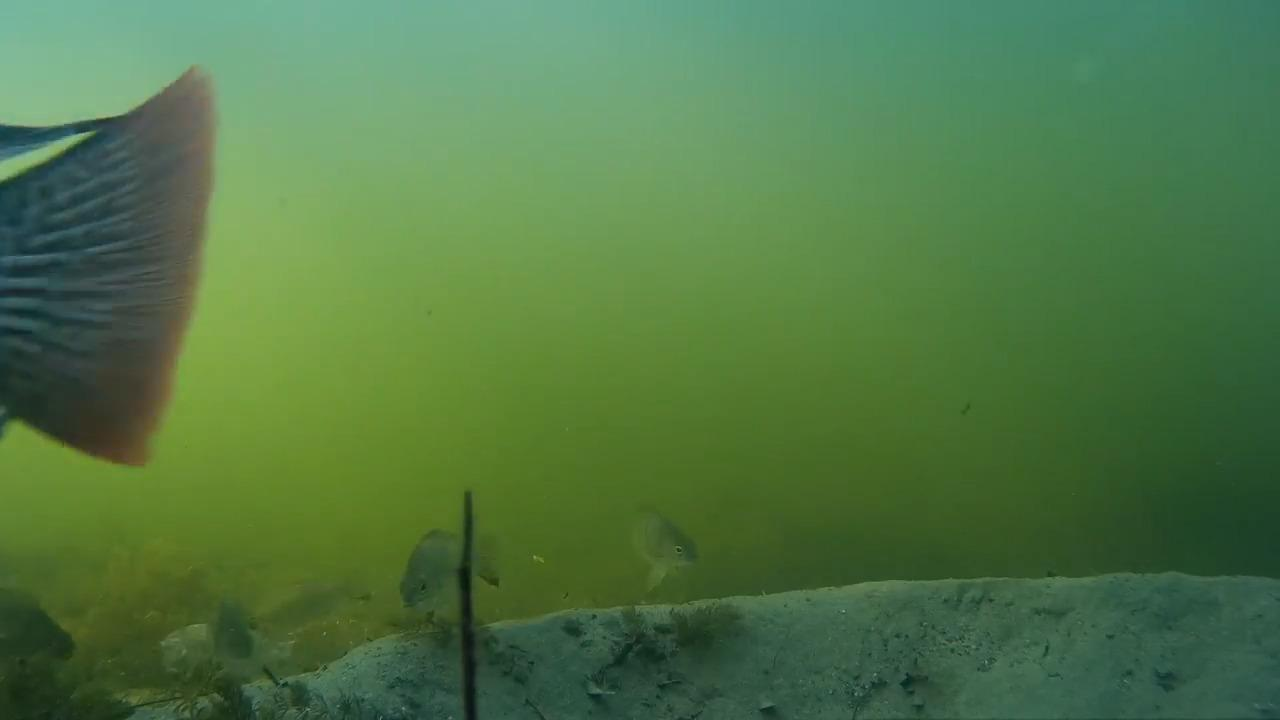Tilapia: (453, 573, 1280, 720)
